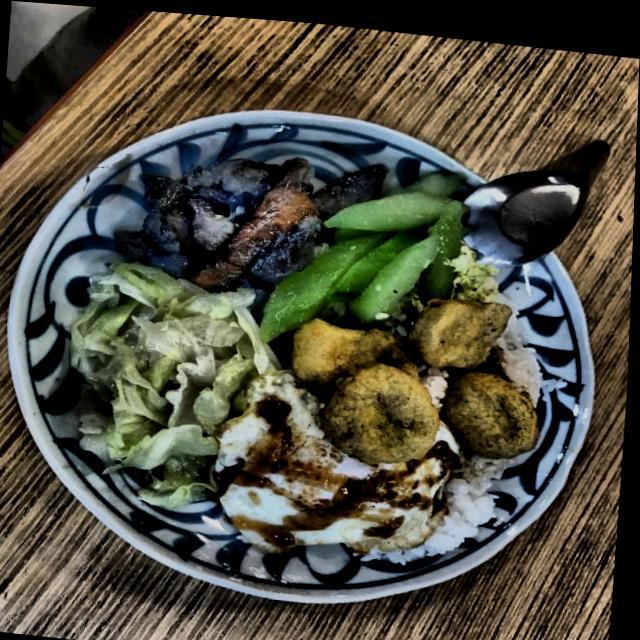Food: (285, 274, 552, 458), (66, 266, 264, 508), (215, 393, 460, 563), (437, 444, 511, 548)
